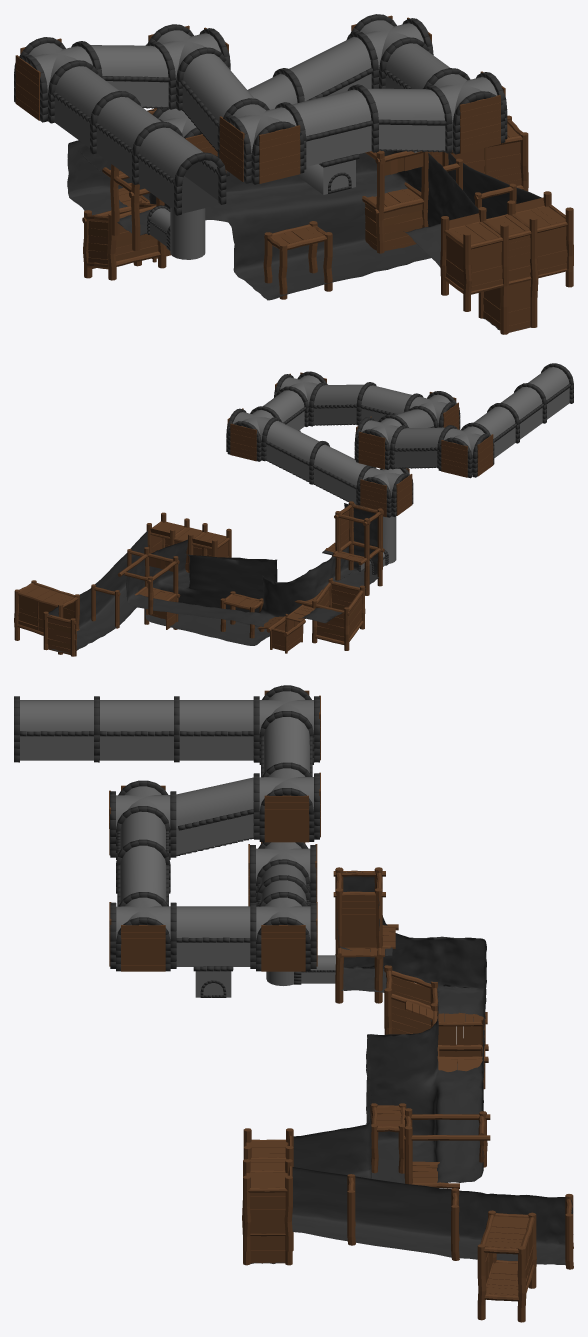
Rendered from env_caveREWORK.fbx.
3 views of the same model, one above another, from view 1: azimuth 30°, elevation 25°; view 2: azimuth 150°, elevation 25°; view 3: azimuth 270°, elevation 25° (orthographic). The views are drawn at different scales.
Visible parts, largest first — view 1: prisonP1-lowpoly; view 2: prisonP1-lowpoly; view 3: prisonP1-lowpoly.
Boxes of the visible parts, left/top/right/bottom form: prisonP1-lowpoly: left=14, top=14, right=573, bottom=334; prisonP1-lowpoly: left=14, top=363, right=573, bottom=656; prisonP1-lowpoly: left=14, top=685, right=573, bottom=1322.
Bounding box in the file's own units: 75.06 × 44.01 × 62.85.
